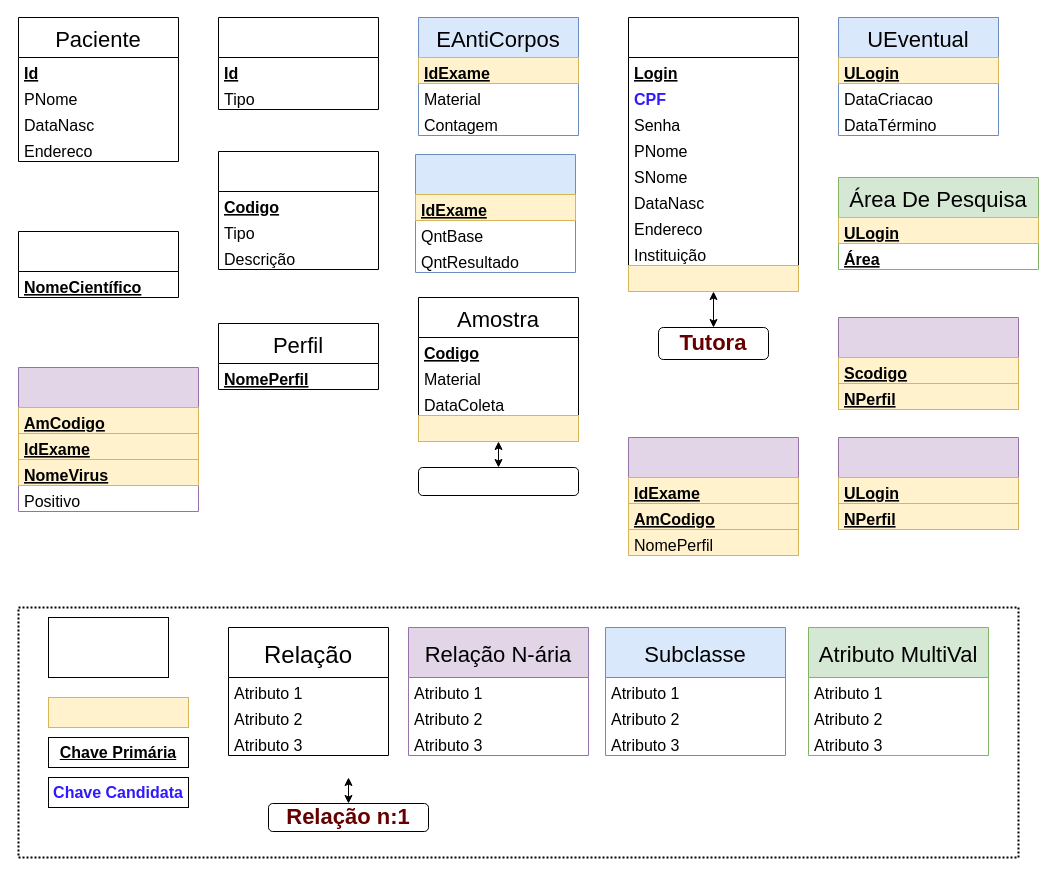
The diagram is 1056 pixels wide and 876 high, and some of its shapes have lost their labels. Here are the shapes that lost their labels. From the top down, the box of each, then its label:
(218, 16, 378, 110): Exame
(628, 16, 798, 292): Usuário
(218, 150, 378, 270): Serviço
(414, 154, 576, 272): EPCR
(18, 230, 178, 298): Vírus
(628, 264, 798, 292): LoginTutorado
(838, 316, 1018, 410): Pode-Realizar
(18, 366, 198, 512): Resultado
(418, 414, 578, 442): IdPac
(418, 466, 578, 496): Analisado Em
(628, 436, 798, 556): Solicita
(838, 436, 1018, 530): Tem-Perfil
(48, 616, 168, 678): Legenda:
(48, 696, 188, 728): Chave Estrangeira
